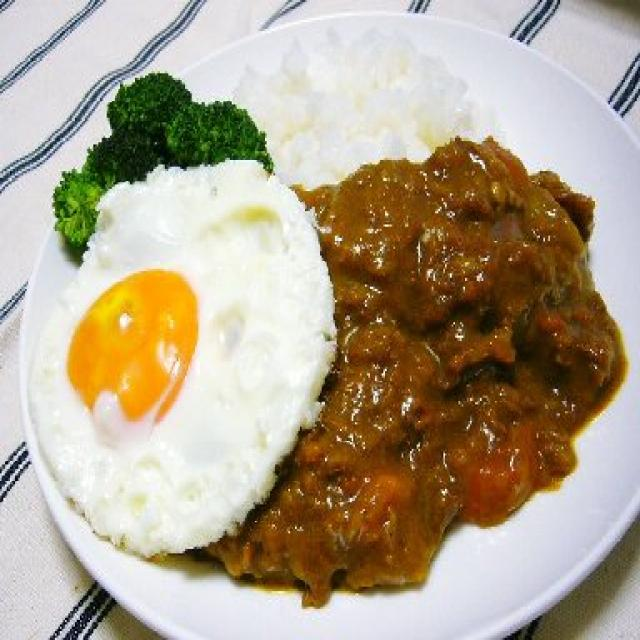牛肉菜式: (255, 33, 612, 611)
鸡蛋料理: (37, 171, 300, 556)
